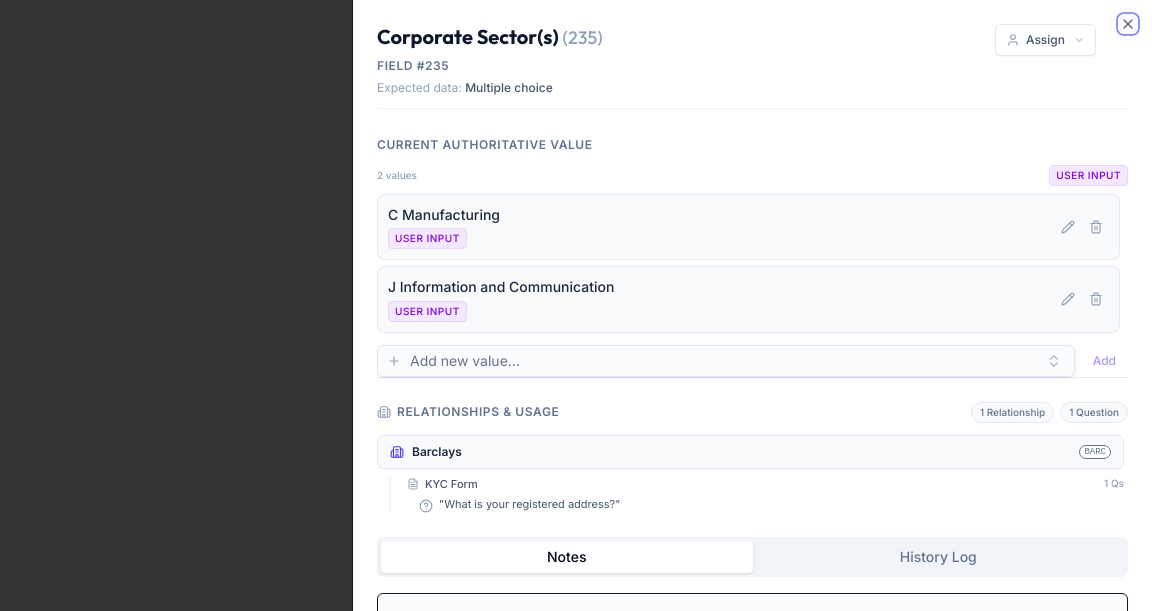
Test: FieldDetailPanel - Generic Multi-Value Branch (Field 235 & Generic Repeating Fields) › enters edit mode for a specific row when Pencil is clicked and renders Select dropdown with options
This screenshot has width=1152, height=611.
Check: the text "C Manufacturing" is shown, box 388,206 -> 500,223
What coordinates should you click on to do the following:
click the button titled "Edit value" in the row of "C Manufacturing"
I would click on:
 (1068, 227)
Its box is 1055,214 -> 1081,240.
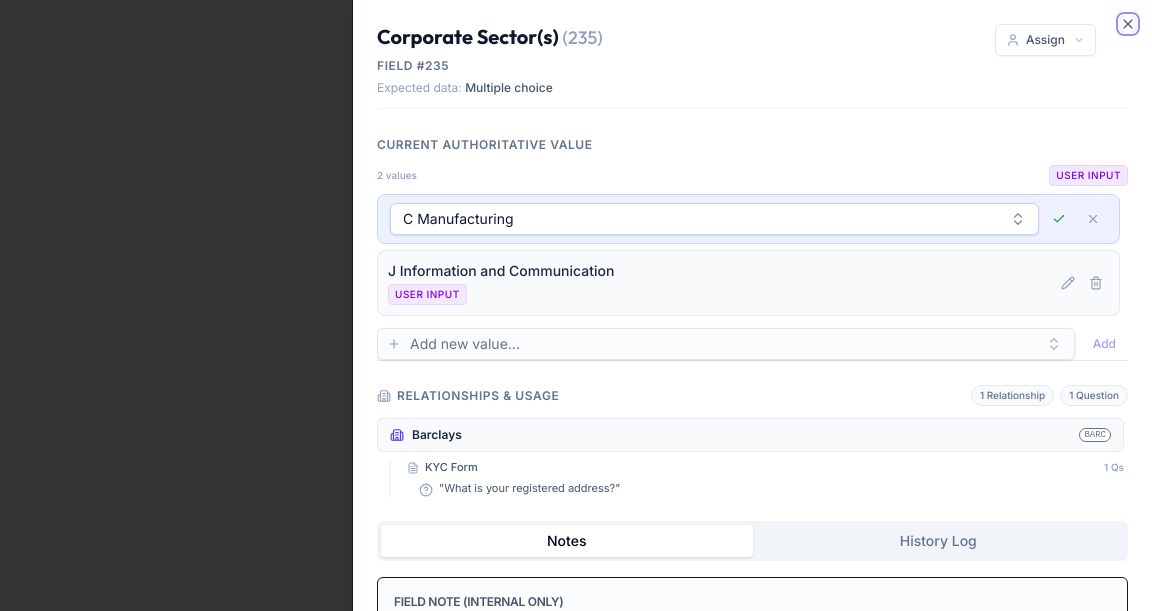
Check: the text "J Information and Communication" is shown, box 388,262 -> 614,279
Check: the button titled "Save value" is shown, box 1045,205 -> 1073,233
Check: the button titled "Cancel" is shown, box 1079,205 -> 1107,233
